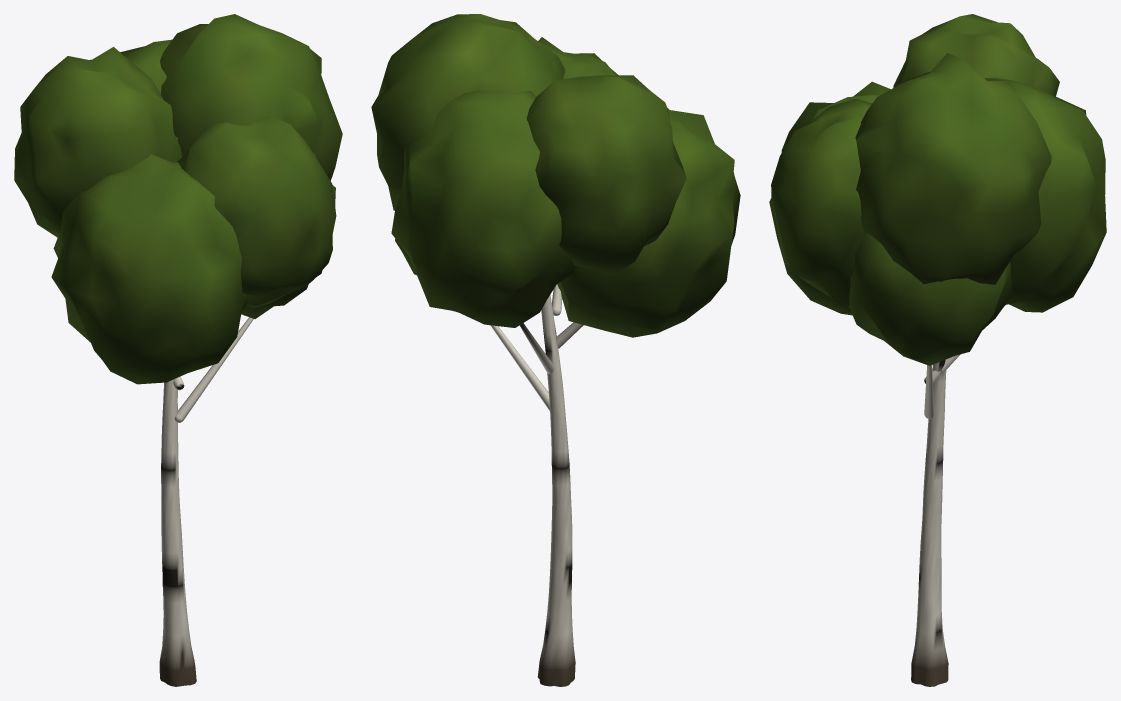
File: Birch.glb
3 views of the same model, side by side, from view 1: azimuth 30°, elevation 25°; view 2: azimuth 150°, elevation 25°; view 3: azimuth 270°, elevation 25° (orthographic). The views are drawn at different scales.
Parts seen in each view (by area): view 1: Leaves, Trunk; view 2: Leaves, Trunk; view 3: Leaves, Trunk.
Part boxes in pixels (x1=…): Leaves: x1=14, y1=14, x2=342, y2=384; Trunk: x1=159, y1=317, x2=253, y2=686; Leaves: x1=371, y1=14, x2=740, y2=337; Trunk: x1=490, y1=284, x2=583, y2=686; Leaves: x1=769, y1=14, x2=1106, y2=365; Trunk: x1=911, y1=305, x2=1005, y2=686.
Bounding box in the file's own units: 4.51 × 9.36 × 4.44.
